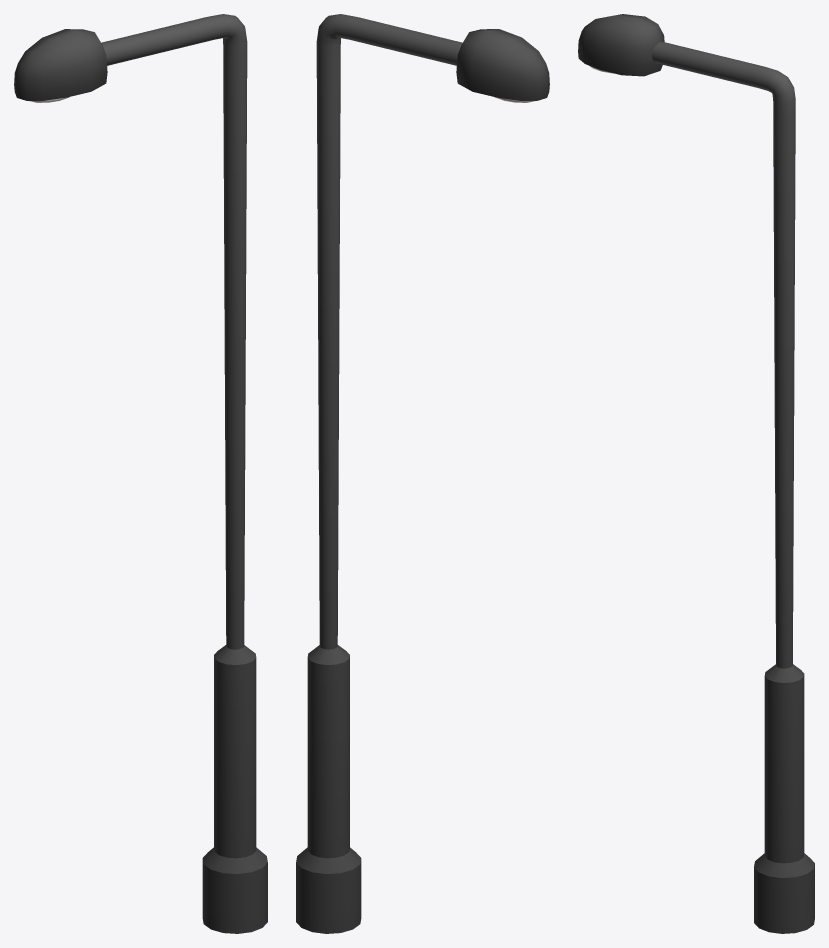
The model's file is Street_Light.glb.
The picture shows the model from 3 angles, left to right: view 1: azimuth 30°, elevation 25°; view 2: azimuth 150°, elevation 25°; view 3: azimuth 330°, elevation 25°; orthographic projection. The views are drawn at different scales.
Visible parts, largest first — view 1: street_light; view 2: street_light; view 3: street_light.
Boxes of the visible parts, left/top/right/bottom form: street_light: left=14, top=14, right=267, bottom=933; street_light: left=296, top=14, right=549, bottom=933; street_light: left=578, top=14, right=814, bottom=933.
Bounding box in the file's own units: 1.53 × 5.5 × 0.3549.
1 material, 1 textured.
